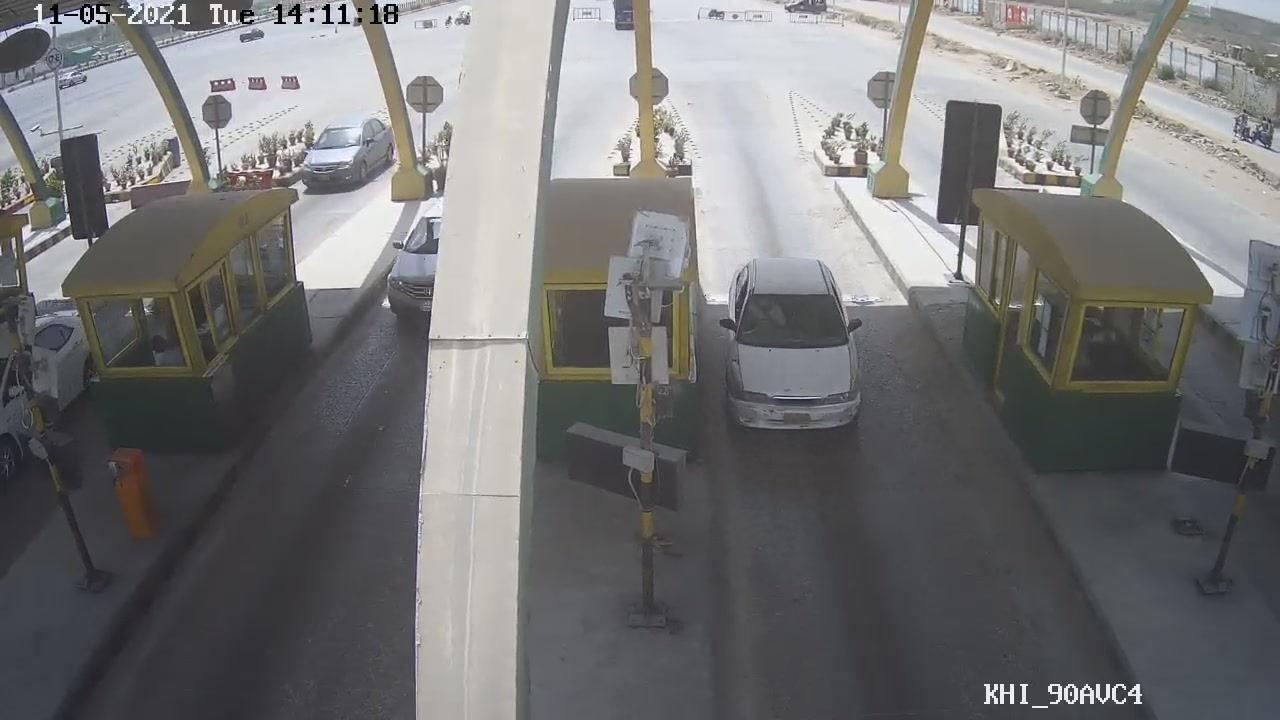F1: (712, 250, 872, 448)
